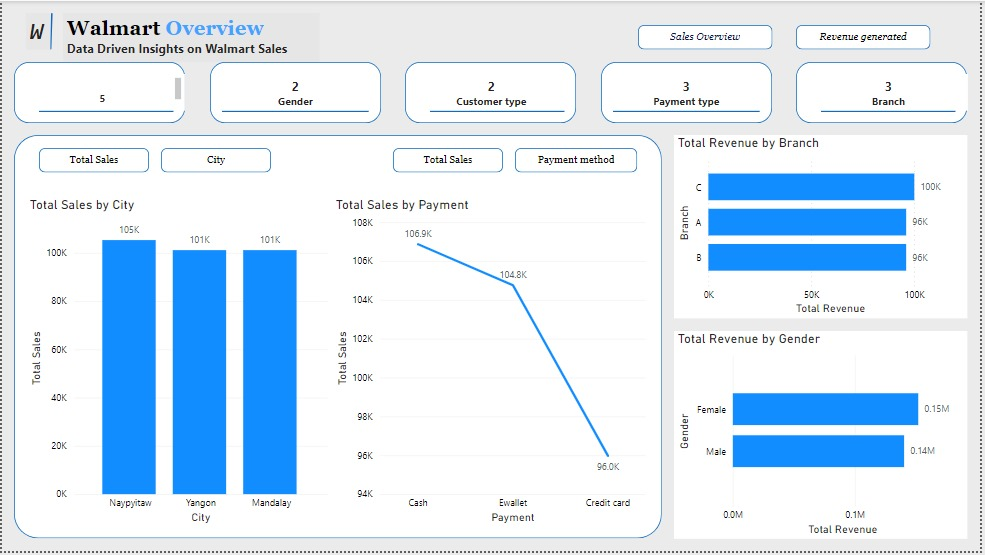

What the dashboard file says about the page in this screenshot:
{"tool":"powerbi","page":{"name":"Page 1","canvas":[1280,720],"ordinal":0},"visuals":[{"type":"shape","box":[48,16,32,48],"z":1},{"type":"textbox","box":[80,16,336,64],"z":2},{"type":"shape","box":[16,80,224,80],"z":3},{"type":"shape","box":[1040,80,224,80],"z":9},{"type":"shape","box":[784,80,224,80],"z":10},{"type":"shape","box":[528,80,224,80],"z":11},{"type":"textbox","box":[32,16,32,48],"z":12},{"type":"shape","box":[16,176,848,528],"z":13},{"type":"clusteredColumnChart","fields":{"Category":["walmart.City"],"Y":["Sum(walmart.Total Sales)"]},"box":[32,256,400,432],"z":14},{"type":"lineChart","fields":{"Category":["walmart.Payment"],"Y":["Sum(walmart.Total Sales)"]},"box":[432,256,416,432],"z":15},{"type":"clusteredBarChart","fields":{"Category":["walmart.Branch"],"Y":["walmart.Total Revenue"]},"box":[880,176,384,240],"z":16},{"type":"clusteredBarChart","fields":{"Y":["walmart.Total Revenue"],"Category":["walmart.Gender"]},"box":[880,432,384,272],"z":17},{"type":"shape","box":[48,128,176,32],"z":18},{"type":"shape","box":[560,128,176,32],"z":20},{"type":"shape","box":[800,128,192,32],"z":21},{"type":"shape","box":[1072,128,176,32],"z":22},{"type":"textbox","box":[544,96,192,48],"z":25},{"type":"textbox","box":[800,96,192,48],"z":26},{"type":"textbox","box":[1056,96,192,48],"z":27},{"type":"shape","box":[272,80,224,80],"z":28},{"type":"shape","box":[288,128,192,32],"z":29},{"type":"textbox","box":[288,96,192,48],"z":30},{"type":"shape","box":[512,192,144,32],"z":31},{"type":"shape","box":[672,192,160,32],"z":32},{"type":"shape","box":[48,192,144,32],"z":33},{"type":"shape","box":[208,192,144,32],"z":34},{"type":"shape","box":[832,32,176,32],"z":35},{"type":"shape","box":[1040,32,176,32],"z":36},{"type":"textbox","box":[32,96,192,48],"z":37}]}

Visuals, with their boxes in screenshot pixels (x1, y1, x2, y2), scaled from the page's 1280x720 canvas onto the 985x555 screenshot:
shape: (37, 12, 62, 49)
textbox: (62, 12, 320, 62)
shape: (12, 62, 185, 123)
shape: (800, 62, 973, 123)
shape: (603, 62, 776, 123)
shape: (406, 62, 579, 123)
textbox: (25, 12, 49, 49)
shape: (12, 136, 665, 543)
clusteredColumnChart - walmart.City x Sum(walmart.Total Sales): (25, 197, 332, 530)
lineChart - walmart.Payment x Sum(walmart.Total Sales): (332, 197, 653, 530)
clusteredBarChart - walmart.Branch x walmart.Total Revenue: (677, 136, 973, 321)
clusteredBarChart - walmart.Total Revenue x walmart.Gender: (677, 333, 973, 543)
shape: (37, 99, 172, 123)
shape: (431, 99, 566, 123)
shape: (616, 99, 763, 123)
shape: (825, 99, 960, 123)
textbox: (419, 74, 566, 111)
textbox: (616, 74, 763, 111)
textbox: (813, 74, 960, 111)
shape: (209, 62, 382, 123)
shape: (222, 99, 369, 123)
textbox: (222, 74, 369, 111)
shape: (394, 148, 505, 173)
shape: (517, 148, 640, 173)
shape: (37, 148, 148, 173)
shape: (160, 148, 271, 173)
shape: (640, 25, 776, 49)
shape: (800, 25, 936, 49)
textbox: (25, 74, 172, 111)
